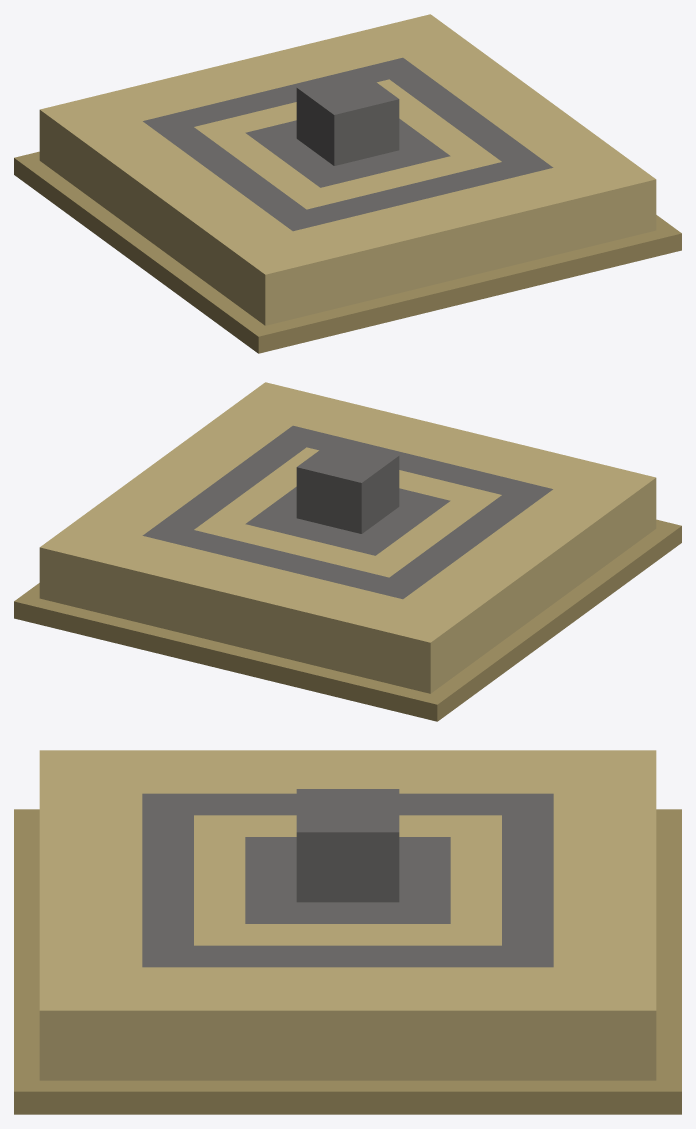
The model's file is summit.glb.
3 renders of one model, top to bottom at view 1: azimuth 30°, elevation 25°; view 2: azimuth 150°, elevation 25°; view 3: azimuth 270°, elevation 25°, orthographic. The views are drawn at different scales.
Size of the model in its own units: 26 by 7 by 26.
